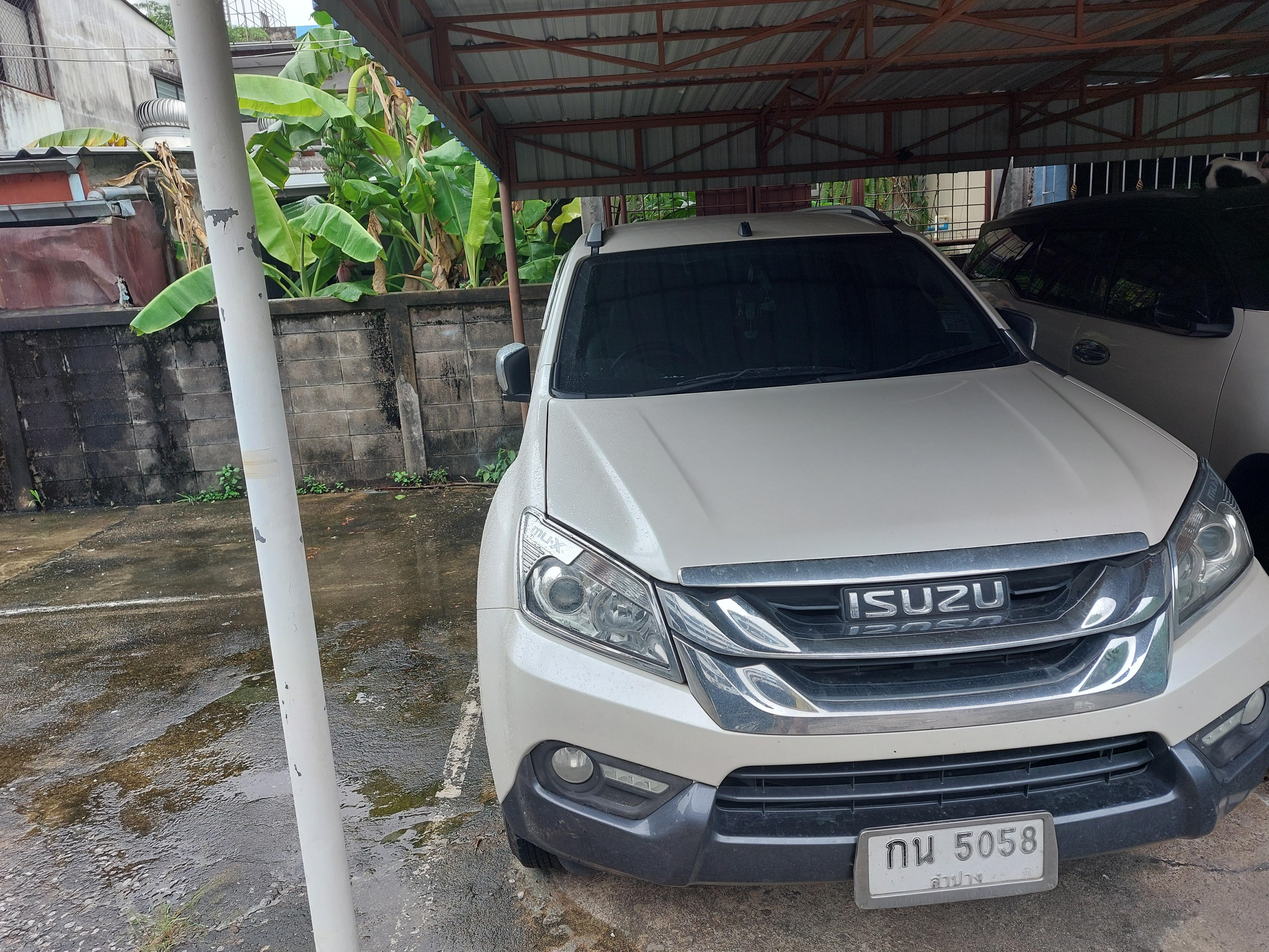license-plate: (855, 811, 1061, 913)
